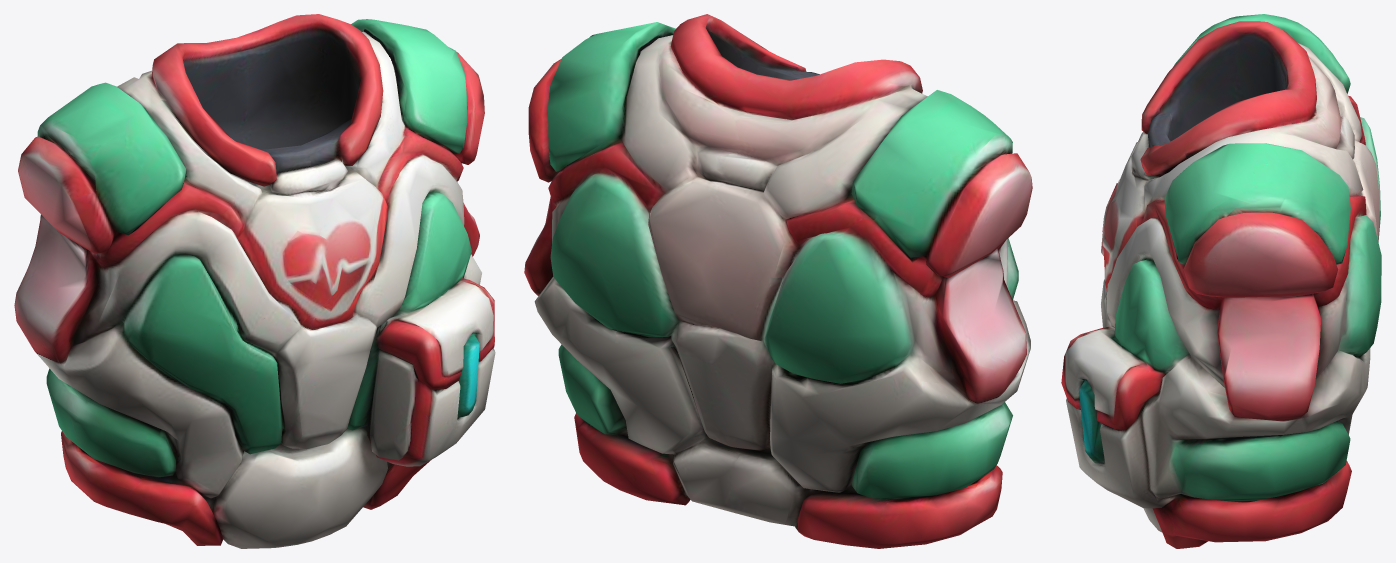
Rendered from GE16_medic_suit.glb.
The picture shows the model from 3 angles, left to right: view 1: azimuth 30°, elevation 25°; view 2: azimuth 150°, elevation 25°; view 3: azimuth 270°, elevation 25°; orthographic projection. The views are drawn at different scales.
Visible parts, largest first — view 1: tripo_node_93120afa-b337-4485-bd3a-392608b76a3f; view 2: tripo_node_93120afa-b337-4485-bd3a-392608b76a3f; view 3: tripo_node_93120afa-b337-4485-bd3a-392608b76a3f.
Boxes of the visible parts, x1=… form: tripo_node_93120afa-b337-4485-bd3a-392608b76a3f: x1=14, y1=14, x2=495, y2=548; tripo_node_93120afa-b337-4485-bd3a-392608b76a3f: x1=524, y1=14, x2=1032, y2=548; tripo_node_93120afa-b337-4485-bd3a-392608b76a3f: x1=1061, y1=14, x2=1381, y2=548.
Bounding box in the file's own units: 0.9397 × 1 × 0.6177.
Materials: 1 (1 with a texture image).
